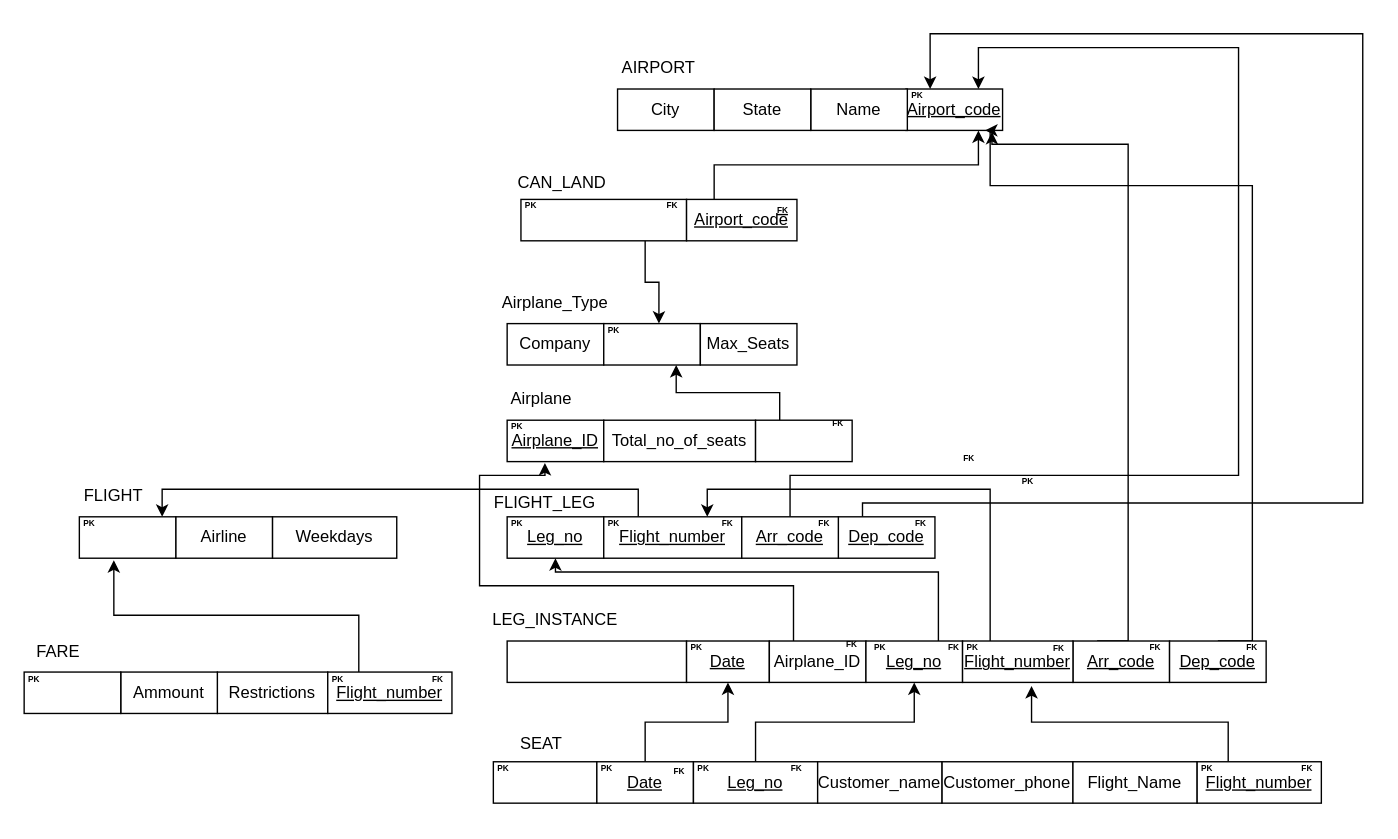
The diagram is 1398 pixels wide and 839 high, and some of its shapes have lost their labels. Each missing label, with the box of its shape:
Airplane_Type_name: (520, 198, 687, 241)
Code: (23, 671, 121, 713)
No_of_available_seats: (506, 640, 687, 682)
Number: (78, 515, 176, 558)
seat_number: (492, 760, 597, 803)
Type: (754, 419, 852, 462)
Type_name: (602, 322, 700, 365)
